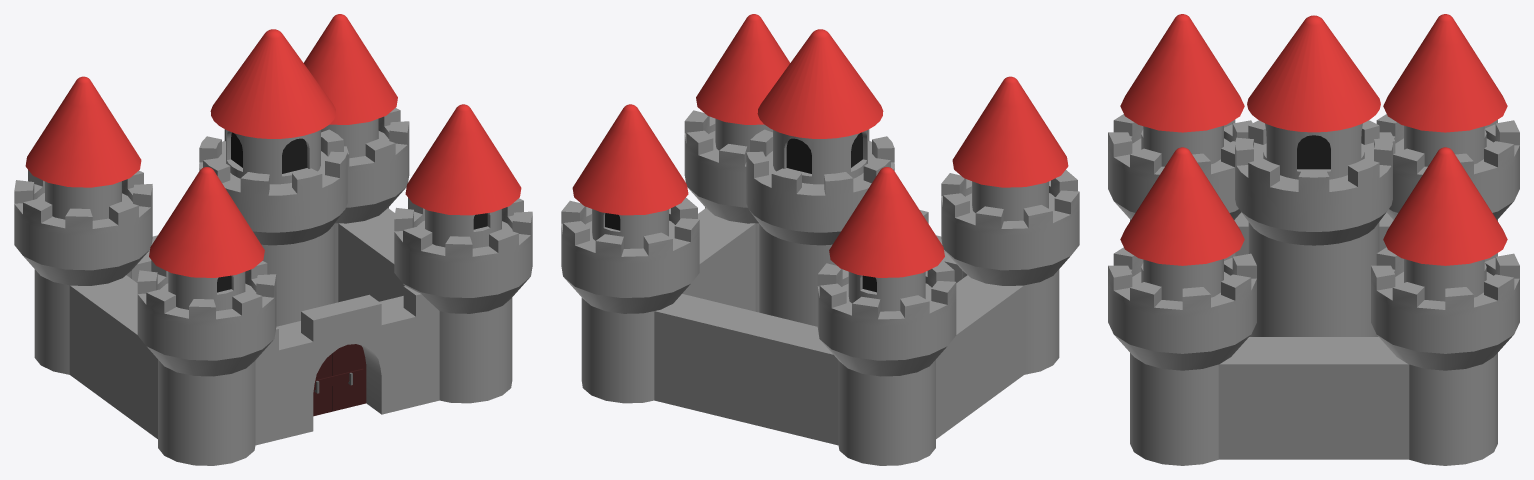
File: castle.glb
3 renders of one model, left to right at view 1: azimuth 30°, elevation 25°; view 2: azimuth 150°, elevation 25°; view 3: azimuth 270°, elevation 25°, orthographic. The views are drawn at different scales.
Visible parts, largest first — view 1: Circle.2349; view 2: Circle.2349; view 3: Circle.2349.
Part boxes in pixels (<box>): Circle.2349: <box>14,14,532,465</box>; Circle.2349: <box>561,14,1079,465</box>; Circle.2349: <box>1108,14,1519,465</box>.
Size of the model in its own units: 2.16 by 1.85 by 1.92.
Materials: 1 (1 with a texture image).
